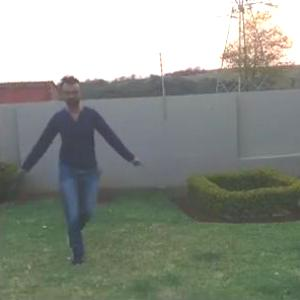land: (22, 83, 125, 233)
